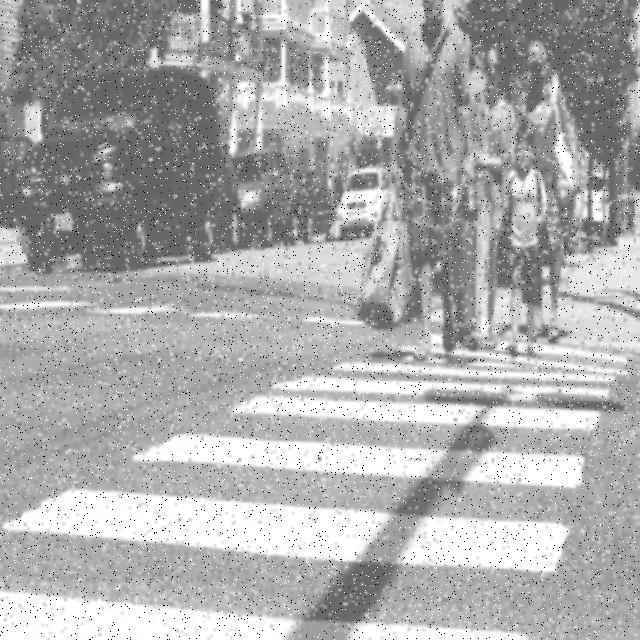crosswalk: (3, 326, 627, 637)
